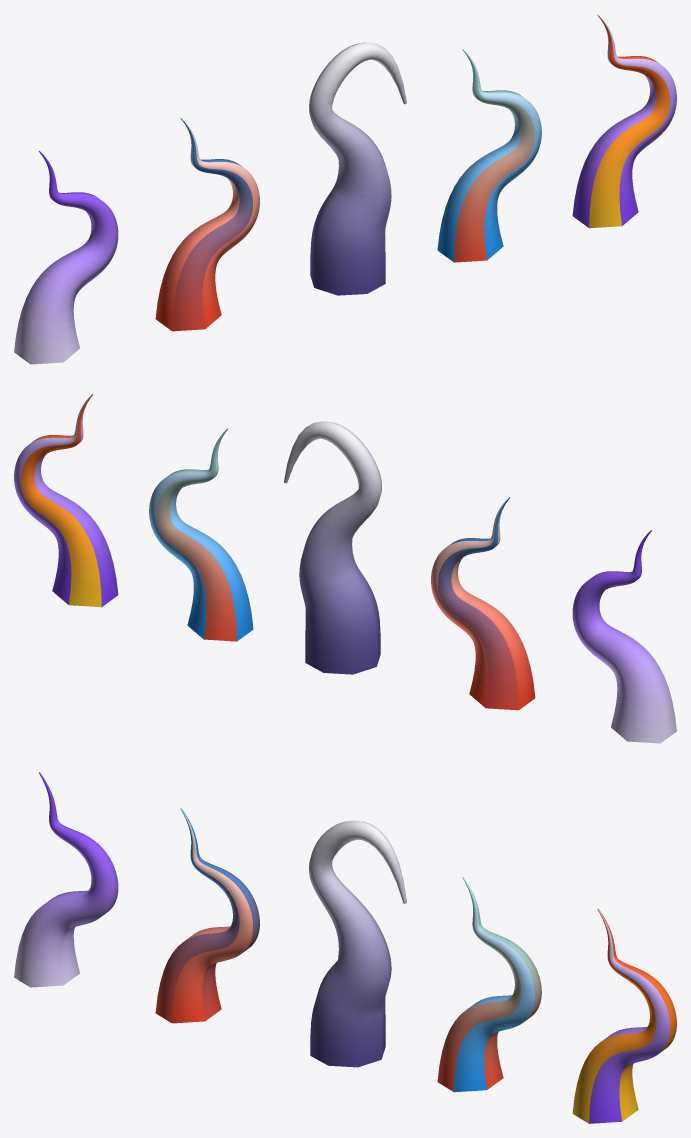
The model's file is Tentacle.fbx.
3 renders of one model, top to bottom at view 1: azimuth 30°, elevation 25°; view 2: azimuth 150°, elevation 25°; view 3: azimuth 330°, elevation 25°, orthographic.
Visible parts, largest first — view 1: MDL_Tentacle, MDL_Tentacle.004, MDL_Tentacle.002, MDL_Tentacle.003, MDL_Tentacle.001; view 2: MDL_Tentacle, MDL_Tentacle.004, MDL_Tentacle.003, MDL_Tentacle.001, MDL_Tentacle.002; view 3: MDL_Tentacle, MDL_Tentacle.001, MDL_Tentacle.002, MDL_Tentacle.003, MDL_Tentacle.004.
Part boxes in pixels (box(x1,y1,x2,y2)): MDL_Tentacle: box(309, 42, 406, 295); MDL_Tentacle.004: box(14, 151, 118, 364); MDL_Tentacle.002: box(155, 118, 259, 331); MDL_Tentacle.003: box(437, 49, 541, 262); MDL_Tentacle.001: box(572, 14, 676, 228); MDL_Tentacle: box(284, 421, 381, 674); MDL_Tentacle.004: box(572, 530, 676, 743); MDL_Tentacle.003: box(149, 428, 253, 641); MDL_Tentacle.001: box(14, 393, 118, 607); MDL_Tentacle.002: box(431, 497, 535, 710); MDL_Tentacle: box(309, 820, 406, 1067); MDL_Tentacle.001: box(572, 908, 676, 1123); MDL_Tentacle.002: box(155, 808, 259, 1023); MDL_Tentacle.003: box(437, 877, 541, 1092); MDL_Tentacle.004: box(14, 772, 118, 987).
Bounding box in the file's own units: 5151 × 1767 × 533.
